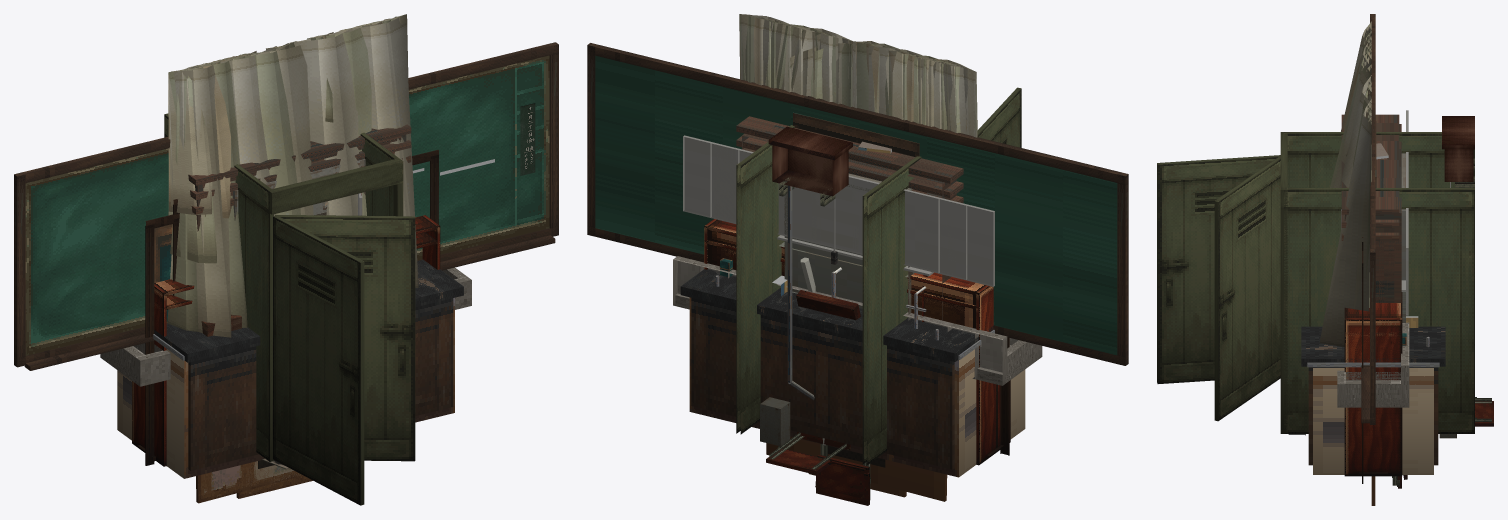
File: props_1f.glb
3 renders of one model, left to right at view 1: azimuth 30°, elevation 25°; view 2: azimuth 150°, elevation 25°; view 3: azimuth 270°, elevation 25°, orthographic. The views are drawn at different scales.
Parts seen in each view (by area): view 1: prop_blackboard-large-0, prop_toilet_stall-1, prop_toilet_stall-3, prop_labbench-0, prop_curtain-half-0, prop_curtain-closed-0, prop_curtain-fallen-1, prop_curtain-half-3, prop_curtain-closed-1, prop_kitchen_counter-0, prop_sash-20-16-1, prop_lockerrow-0 (+11 smaller); view 2: prop_blackboard-large-0, prop_labbench-0, prop_toilet_stall-1, prop_hallsink-24-1, prop_toilet_stall-1-end, prop_hallsink-20-2, prop_hallsink-16-0, prop_lockerrow-0, prop_kitchen_counter-0, prop_curtain-closed-0, prop_cleaning_locker-1, prop_medicine_shelf-1 (+21 smaller); view 3: prop_toilet_stall-1, prop_toilet_stall-1-end, prop_toilet_stall-3, prop_lockerrow-0, prop_kitchen_counter-0, prop_curtain-half-0, prop_medicine_shelf-1, prop_labbench-0, prop_blackboard-large-0, prop_hallsink-24-1, prop_lockerrow-1, prop_shelf_lab-2 (+10 smaller).
Part boxes in pixels (x1,y1,x2,y2): prop_blackboard-large-0: [14, 42, 558, 370]; prop_toilet_stall-1: [164, 113, 415, 461]; prop_toilet_stall-3: [273, 215, 364, 505]; prop_labbench-0: [154, 259, 463, 470]; prop_curtain-half-0: [168, 15, 418, 287]; prop_curtain-closed-0: [168, 16, 408, 216]; prop_curtain-fallen-1: [167, 48, 300, 331]; prop_curtain-half-3: [171, 18, 393, 337]; prop_curtain-closed-1: [175, 15, 402, 327]; prop_kitchen_counter-0: [117, 262, 454, 478]; prop_sash-20-16-1: [137, 150, 438, 465]; prop_lockerrow-0: [132, 215, 440, 466]; prop_blackboard-large-0: [587, 43, 1128, 365]; prop_labbench-0: [680, 267, 993, 469]; prop_toilet_stall-1: [760, 126, 921, 465]; prop_hallsink-24-1: [673, 135, 1042, 385]; prop_toilet_stall-1-end: [736, 125, 794, 434]; prop_hallsink-20-2: [700, 142, 1009, 378]; prop_hallsink-16-0: [728, 149, 952, 331]; prop_lockerrow-0: [704, 219, 1010, 465]; prop_kitchen_counter-0: [689, 271, 1025, 477]; prop_curtain-closed-0: [741, 14, 976, 137]; prop_cleaning_locker-1: [784, 184, 870, 308]; prop_medicine_shelf-1: [736, 116, 963, 319]; prop_toilet_stall-1: [1214, 116, 1474, 438]; prop_toilet_stall-1-end: [1284, 188, 1474, 433]; prop_toilet_stall-3: [1157, 155, 1280, 383]; prop_lockerrow-0: [1344, 292, 1402, 476]; prop_kitchen_counter-0: [1307, 362, 1439, 474]; prop_curtain-half-0: [1319, 24, 1371, 346]; prop_medicine_shelf-1: [1341, 114, 1401, 302]; prop_labbench-0: [1301, 326, 1445, 465]; prop_blackboard-large-0: [1361, 14, 1375, 424]; prop_hallsink-24-1: [1337, 110, 1409, 407]; prop_lockerrow-1: [1344, 332, 1402, 475]; prop_shelf_lab-2: [1341, 232, 1401, 302].
Bounding box in the file's own units: 3.92 × 3.1 × 2.34.
Materials: 158 (158 with a texture image).
